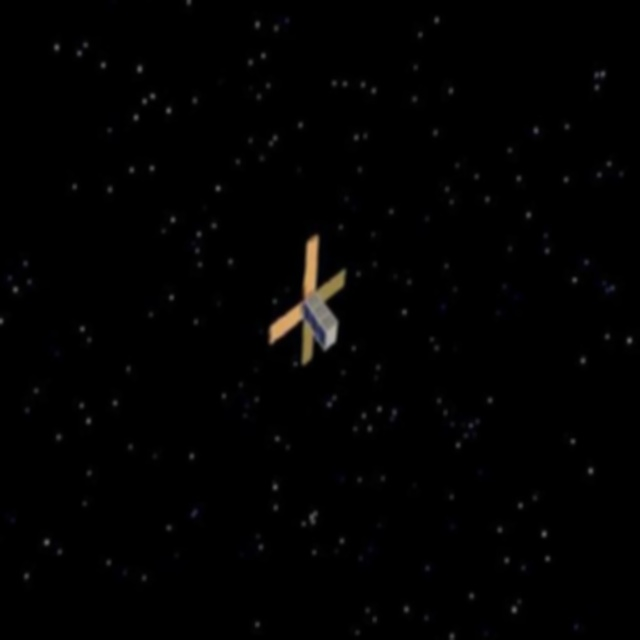medium_debris: (242, 216, 361, 380)
